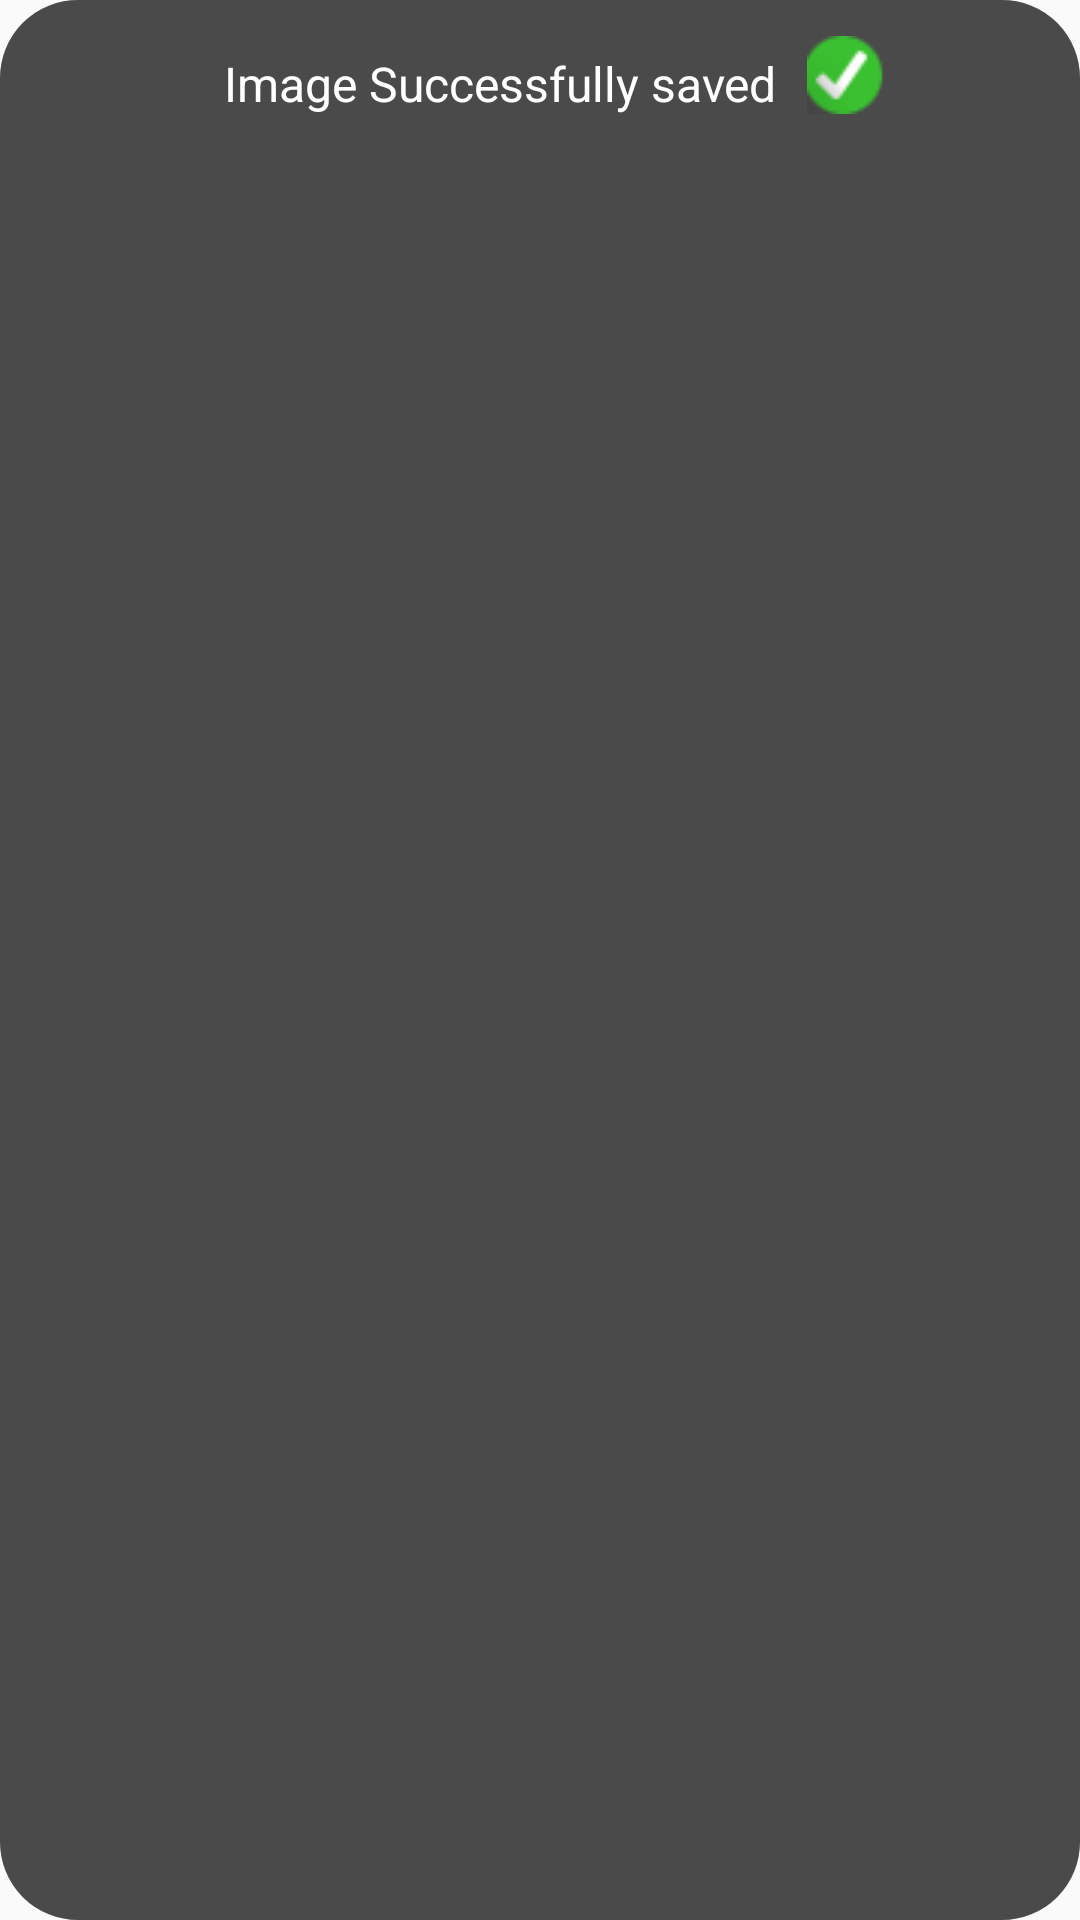

Screen size 1080px×1920px. Icon name, then its center in pixels as (x=x, y=y):
done circle: (x=845, y=75)
